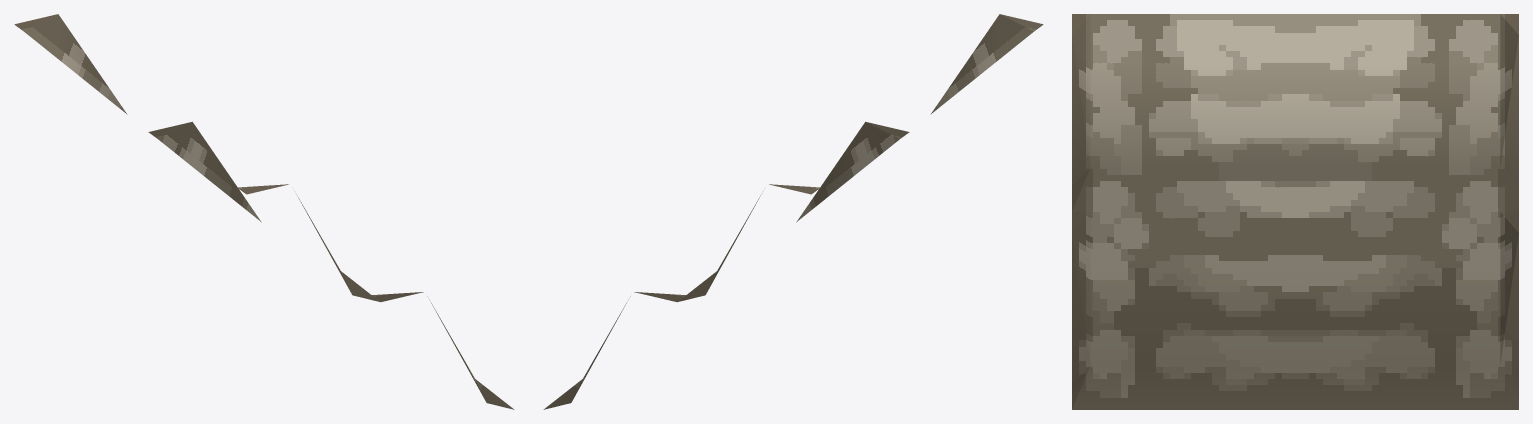
The picture shows the model from 3 angles, left to right: view 1: azimuth 30°, elevation 25°; view 2: azimuth 150°, elevation 25°; view 3: azimuth 270°, elevation 25°; orthographic projection. The views are drawn at different scales.
Size of the model in its own units: 2 by 2 by 3.
Materials: 1 (1 with a texture image).
